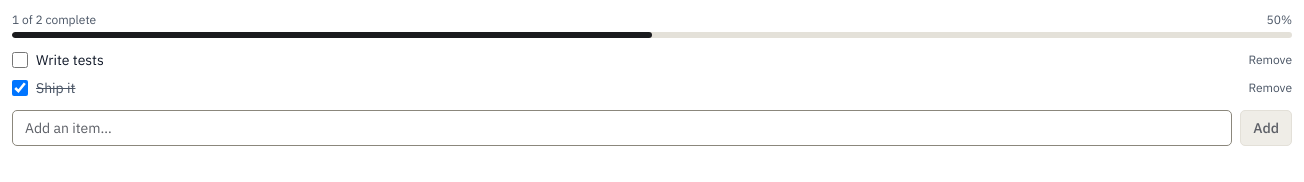
it: shows a validation error inline when adding fails
This screenshot has width=1304, height=182.
In the field with placeholder "Add an item…": (622, 128) [12,110,1232,146], type "One too many"
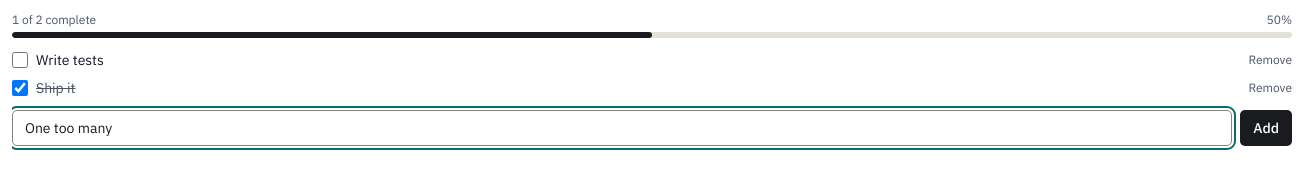
Click the button "Add": click(1266, 128) [1240,110,1292,146]
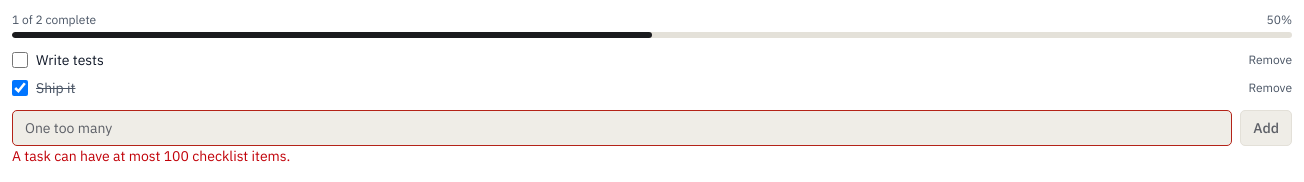
Now the text "A task can have at most 100 checklist items." is shown, box [12,147,290,165]
